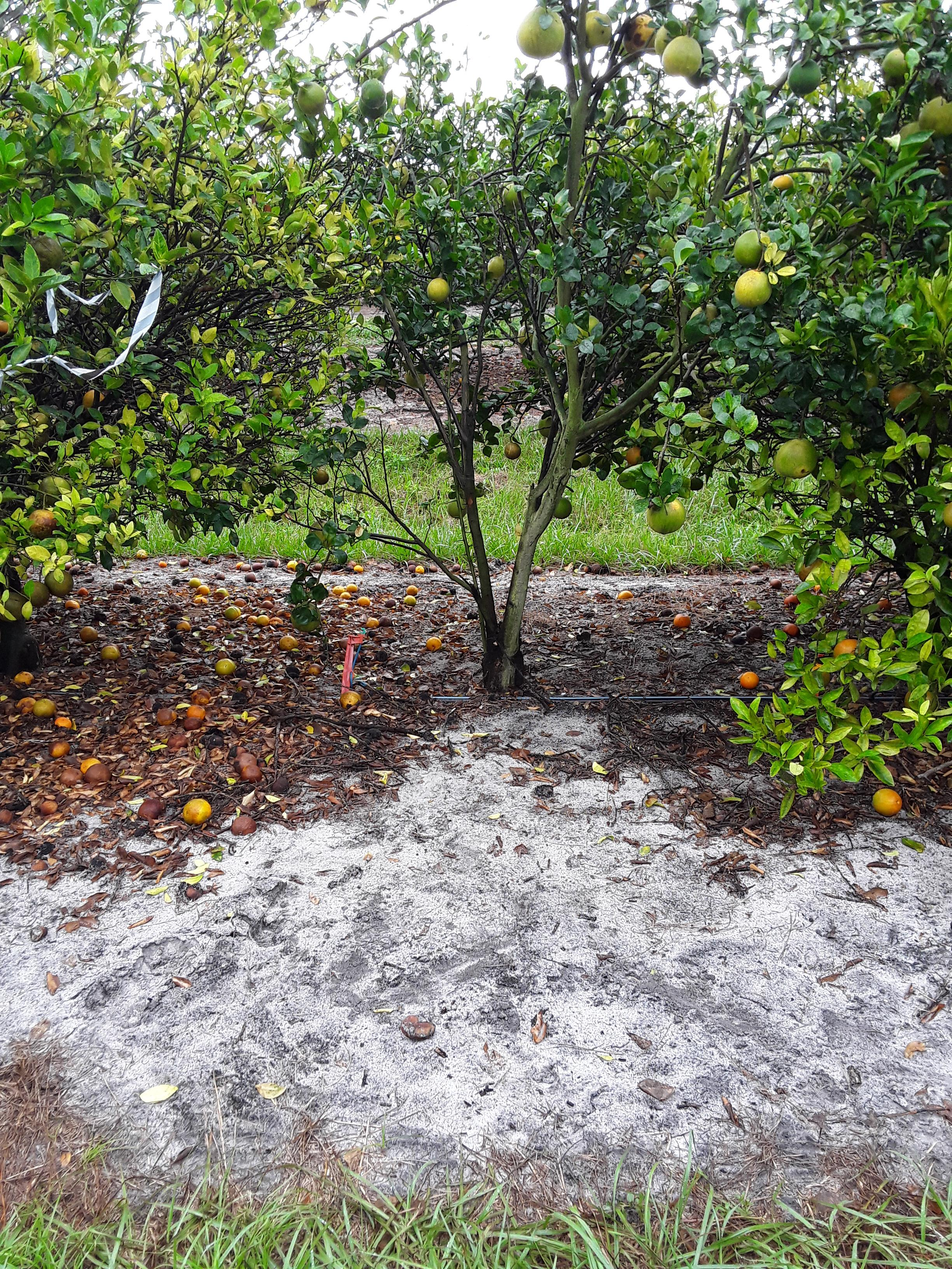fruit_on_ground: (512, 2, 568, 61), (772, 435, 820, 480), (660, 33, 705, 80), (621, 11, 666, 53), (731, 267, 774, 309), (23, 232, 65, 272), (577, 6, 614, 51), (644, 496, 686, 535), (916, 93, 952, 138), (878, 44, 915, 87), (786, 57, 826, 96), (652, 19, 693, 57), (730, 229, 769, 267), (885, 380, 924, 416), (16, 407, 52, 444), (901, 685, 941, 718), (294, 79, 329, 116), (689, 302, 723, 337), (25, 506, 61, 538), (1, 589, 32, 624), (44, 565, 76, 597), (92, 442, 125, 472), (291, 602, 321, 632), (360, 76, 386, 110), (383, 159, 412, 189), (424, 274, 453, 304), (803, 662, 833, 690), (79, 385, 110, 412), (798, 557, 829, 582), (23, 578, 50, 606), (499, 181, 524, 211), (831, 636, 860, 661), (855, 367, 882, 392), (484, 253, 508, 280), (769, 171, 797, 194), (550, 495, 574, 520), (626, 248, 652, 270), (403, 367, 429, 389), (185, 225, 209, 248), (623, 442, 646, 466), (534, 414, 557, 437), (264, 383, 288, 405), (933, 152, 951, 181), (569, 447, 591, 470), (502, 439, 522, 461), (940, 496, 952, 532), (312, 465, 331, 485), (446, 498, 464, 518), (687, 474, 706, 491), (0, 313, 14, 336)
fruit_on_tree: (869, 784, 905, 819), (397, 1012, 435, 1041), (180, 797, 212, 827), (137, 796, 168, 822), (230, 814, 258, 839), (32, 695, 57, 718), (85, 763, 111, 785), (340, 689, 364, 711), (214, 656, 238, 678), (238, 762, 262, 783), (153, 706, 177, 727), (738, 670, 761, 691), (166, 732, 190, 752), (56, 768, 80, 788), (52, 713, 76, 732), (184, 703, 208, 722), (11, 669, 36, 687), (14, 695, 36, 715), (79, 624, 101, 644), (186, 687, 209, 706), (99, 642, 121, 661), (233, 751, 256, 769), (270, 775, 290, 795), (49, 740, 70, 759), (278, 634, 300, 652), (745, 623, 765, 641), (780, 620, 800, 638), (672, 612, 692, 630), (38, 798, 59, 815), (223, 601, 241, 619), (875, 595, 894, 612), (425, 634, 444, 651), (781, 592, 801, 607), (30, 857, 48, 873), (63, 596, 81, 611), (254, 613, 273, 627), (584, 561, 602, 575), (0, 807, 14, 825), (213, 585, 231, 599), (616, 587, 635, 600), (768, 577, 784, 591), (379, 614, 395, 628), (355, 594, 371, 608), (109, 581, 126, 594), (345, 580, 359, 595), (259, 594, 274, 608), (197, 584, 212, 598), (188, 575, 203, 589), (306, 662, 322, 675), (176, 619, 192, 632), (243, 570, 259, 583), (126, 613, 140, 626), (135, 547, 149, 560), (402, 594, 416, 607), (352, 560, 366, 573), (405, 583, 419, 596), (365, 615, 379, 628), (127, 593, 142, 605), (747, 563, 762, 575), (381, 597, 396, 609), (329, 584, 345, 595), (285, 558, 298, 571), (425, 560, 439, 572), (177, 556, 191, 568), (77, 586, 90, 598), (413, 562, 426, 574), (234, 560, 249, 570), (267, 558, 280, 569), (252, 558, 266, 568), (157, 558, 169, 568), (246, 615, 259, 624)
